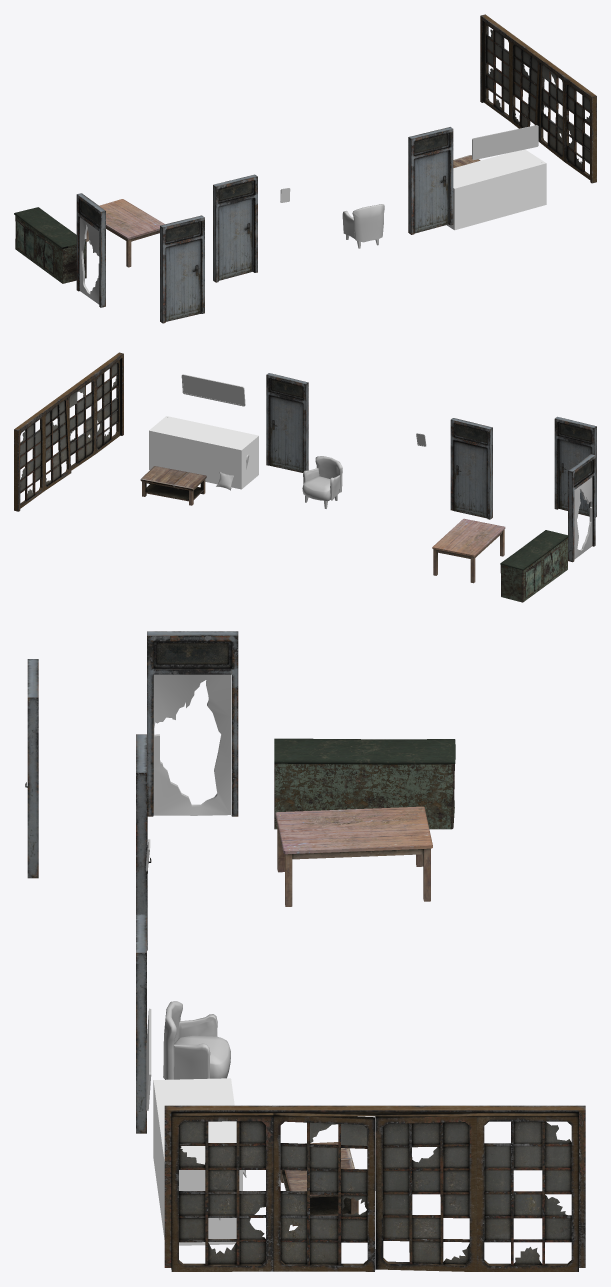
Rendered from Props(Do not Hide)H2.fbx.
3 views of the same model, one above another, from view 1: azimuth 30°, elevation 25°; view 2: azimuth 150°, elevation 25°; view 3: azimuth 270°, elevation 25° (orthographic). The views are drawn at different scales.
Parts seen in each view (by area): view 1: BalDoorUnbroken, SingleDoor (×3), SingleDoorFrame (×4), Cube, DoubleStorage, DiningTable, PhotoFrame_15, SingleCouch, BrokenDoor; view 2: BalDoorUnbroken, SingleDoor (×3), SingleDoorFrame (×4), Cube, DoubleStorage, DiningTable, Teapoy, SingleCouch, PhotoFrame_15, BrokenDoor; view 3: BalDoorUnbroken, DoubleStorage, SingleDoorFrame (×4), DiningTable, BrokenDoor, Cube, SingleCouch, Teapoy.
Boxes of the visible parts, x1,y1,x2,y2 form: BalDoorUnbroken: [480, 14, 596, 183]; SingleDoor (×3): [165, 150, 448, 321]; SingleDoorFrame (×4): [76, 127, 453, 323]; Cube: [446, 149, 546, 230]; DoubleStorage: [14, 207, 86, 283]; DiningTable: [85, 199, 164, 267]; PhotoFrame_15: [472, 125, 538, 160]; SingleCouch: [342, 204, 384, 248]; BrokenDoor: [80, 217, 99, 304]; BalDoorUnbroken: [14, 352, 123, 511]; SingleDoor (×3): [269, 395, 591, 518]; SingleDoorFrame (×4): [266, 373, 596, 562]; Cube: [149, 416, 258, 489]; DoubleStorage: [500, 530, 568, 602]; DiningTable: [432, 518, 505, 583]; Teapoy: [140, 466, 206, 505]; SingleCouch: [302, 456, 342, 508]; PhotoFrame_15: [181, 374, 245, 406]; BrokenDoor: [574, 477, 592, 559]; BalDoorUnbroken: [164, 1105, 585, 1271]; DoubleStorage: [274, 738, 455, 829]; SingleDoorFrame (×4): [27, 631, 238, 1133]; DiningTable: [275, 806, 432, 906]; BrokenDoor: [153, 674, 230, 815]; Cube: [153, 1078, 242, 1245]; SingleCouch: [163, 1001, 230, 1079]; Teapoy: [280, 1142, 358, 1226].
Size of the model in its own units: 15.16 by 3.06 by 7.66.
